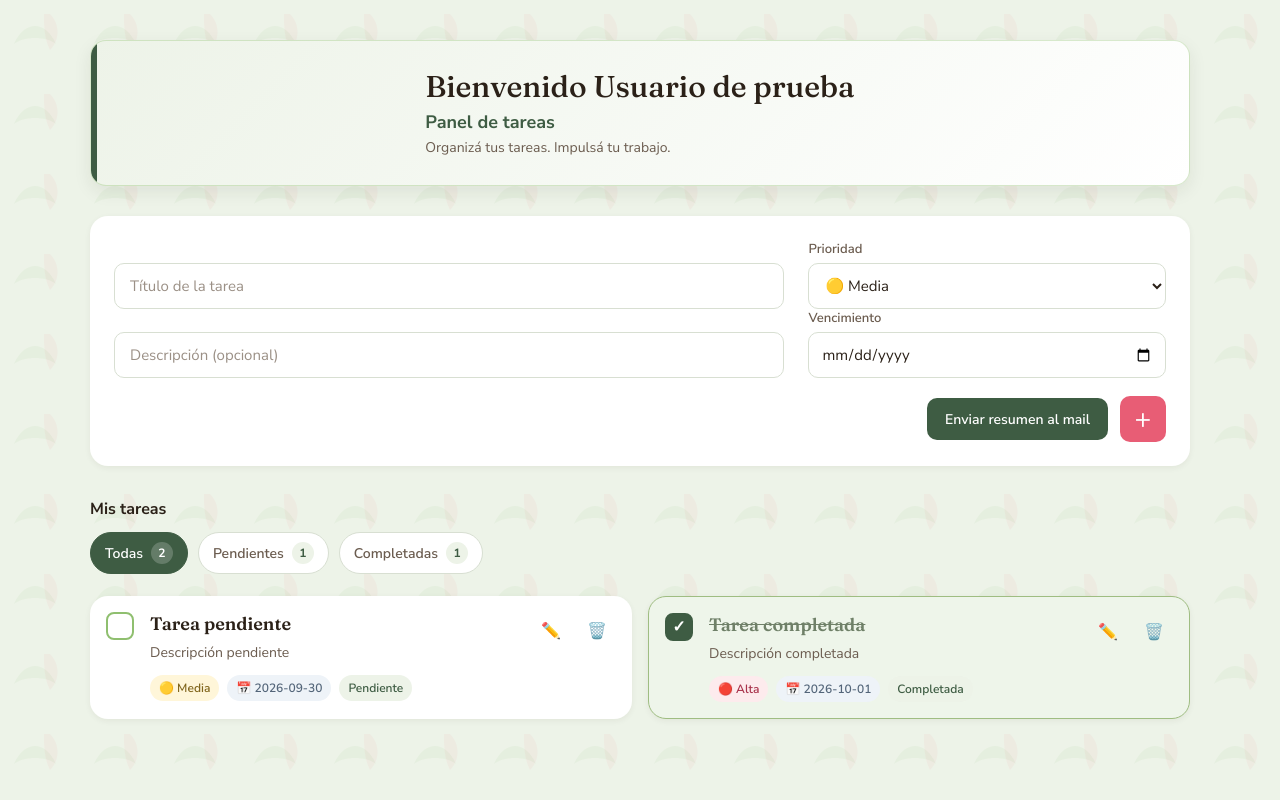
Test case: Dashboard › muestra solamente las tareas pendientes al seleccionar el filtro
The width and height of the screenshot is (1280, 800).
Check: the heading "Tarea pendiente" is shown, box 150,612 -> 291,635
Check: the heading "Tarea completada" is shown, box 709,613 -> 865,636
What coordinates should you click on to do the following:
click the button "Pendientes 1"
I would click on:
 (263, 553)
Its box is 198,532 -> 329,574.
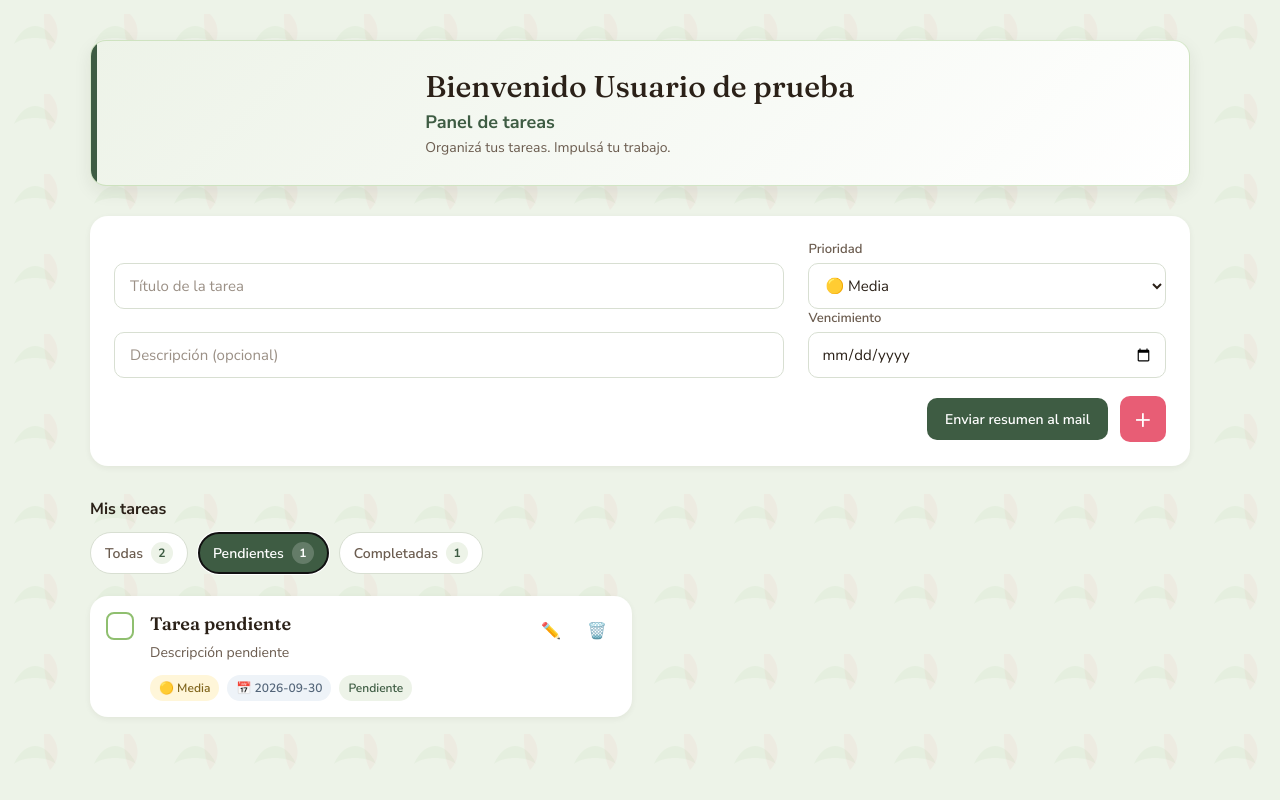
Check: the heading "Tarea pendiente" is shown, box 150,612 -> 291,635
Check: the heading "Tarea completada" is gone
